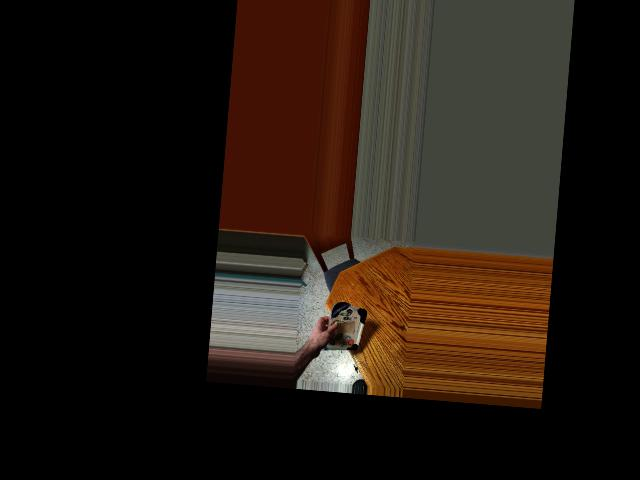cheese: (324, 298, 366, 363)
